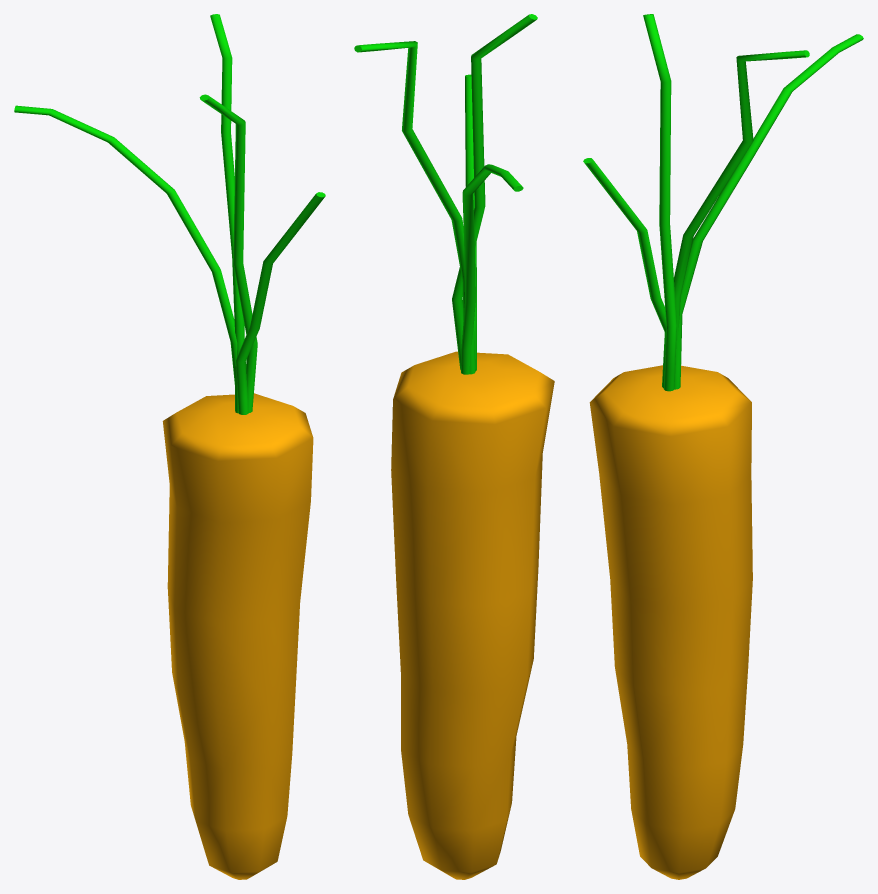
Rendered from Carrot.gltf.
3 renders of one model, left to right at view 1: azimuth 30°, elevation 25°; view 2: azimuth 150°, elevation 25°; view 3: azimuth 270°, elevation 25°, orthographic. The views are drawn at different scales.
Visible parts, largest first — view 1: Flesh, Leaf1, Leaf3, Leaf2, Leaf4; view 2: Flesh, Leaf2, Leaf3, Leaf1, Leaf4; view 3: Flesh, Leaf3, Leaf1, Leaf2, Leaf4.
Boxes of the visible parts, x1,y1,x2,y2 form: Flesh: (162, 393, 313, 879); Leaf1: (14, 105, 237, 384); Leaf3: (199, 94, 257, 412); Leaf2: (210, 14, 244, 413); Leaf4: (236, 192, 325, 414); Flesh: (391, 351, 554, 879); Leaf2: (354, 41, 475, 374); Leaf3: (452, 14, 537, 369); Leaf1: (461, 164, 523, 374); Leaf4: (465, 74, 476, 370); Flesh: (589, 365, 752, 879); Leaf3: (643, 14, 676, 391); Leaf1: (674, 34, 863, 389); Leaf2: (674, 50, 809, 340); Leaf4: (583, 158, 666, 387).
Bounding box in the file's own units: 0.2083 × 0.7935 × 0.2399.
